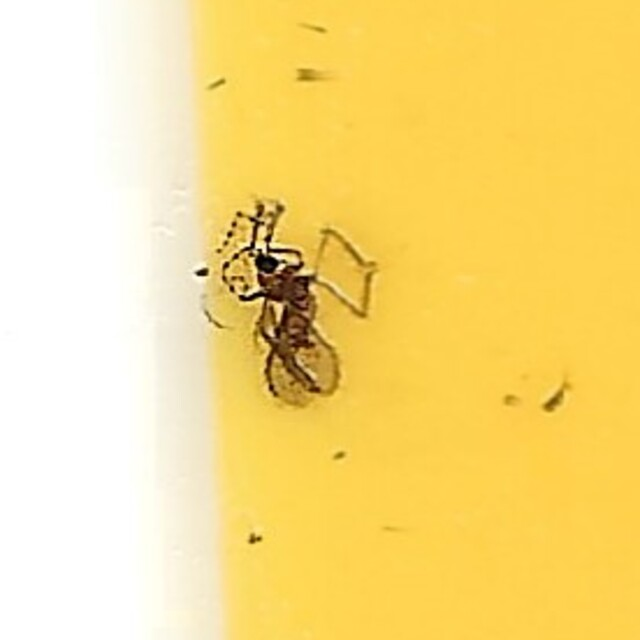Nematocera: (232, 209, 408, 431)
